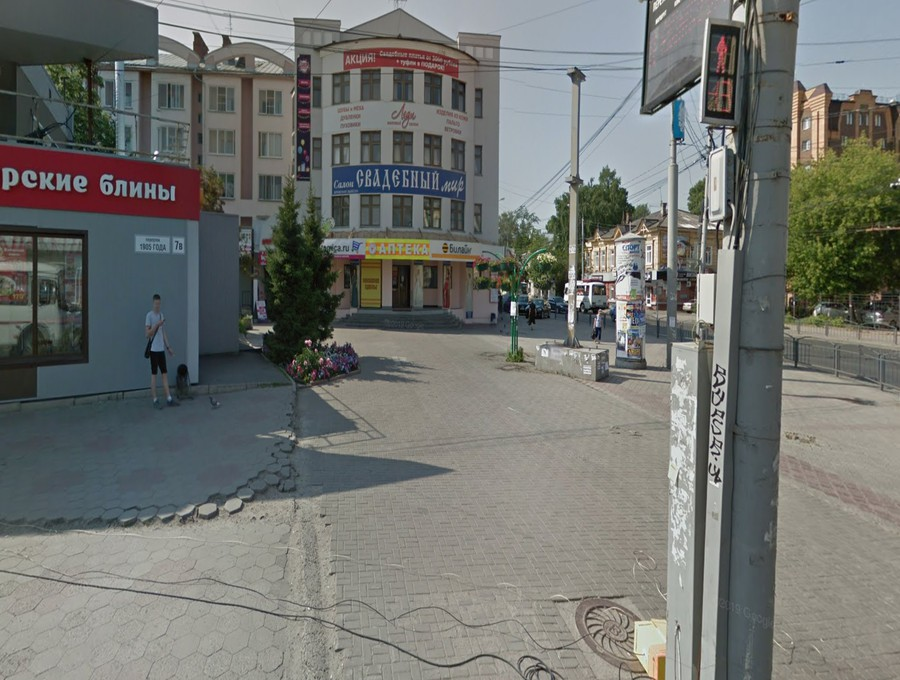Traffic Light-red: (696, 20, 744, 138)
